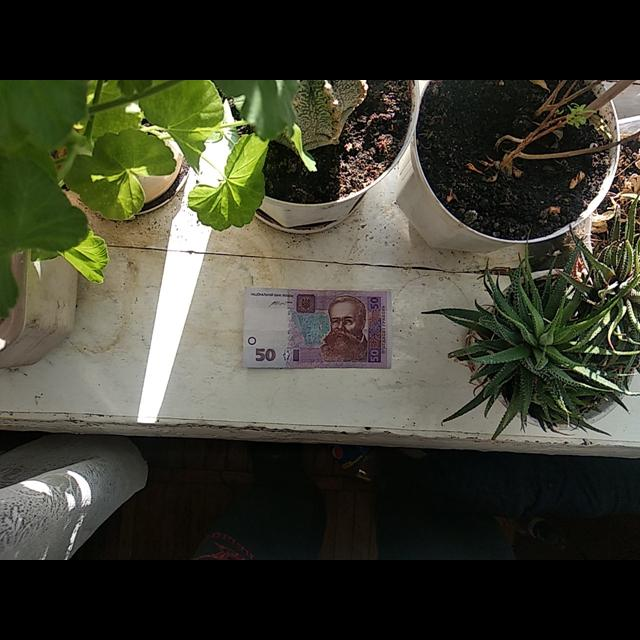50uah: (242, 289, 391, 369)
